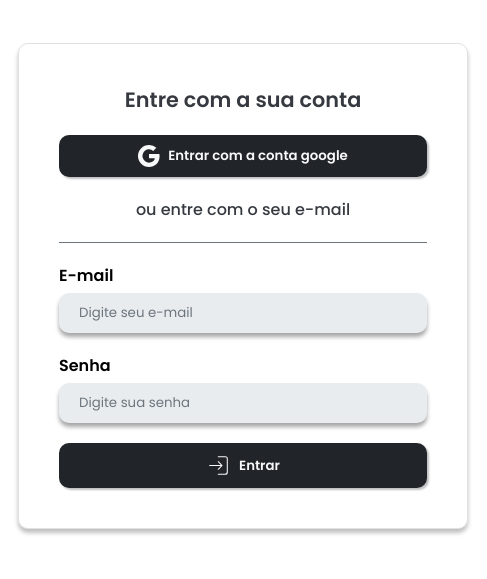
Login › Should show error when user type a invalid email
Type "INVALID_EMAIL" into the field with placeholder "Digite seu e-mail" at (243, 313), box [59,293,427,333]
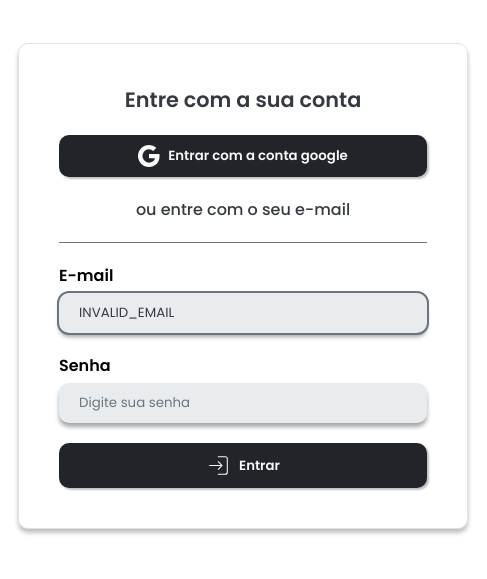
Click the button "Entrar" at (243, 466), box [59,443,427,488]
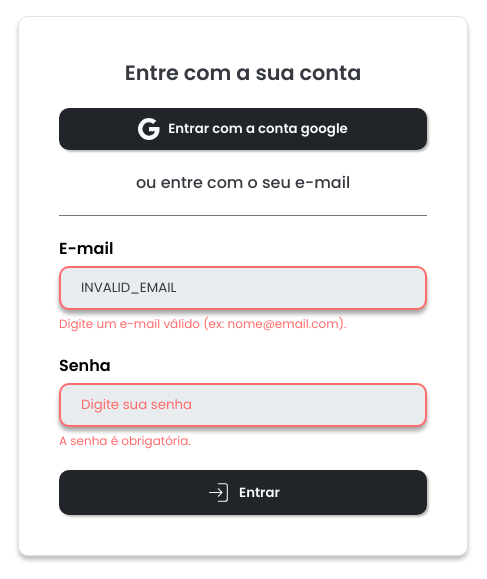
Result: the text "Digite um e-mail válido (ex: nome@email.com)." is shown at [59,315,346,332]
